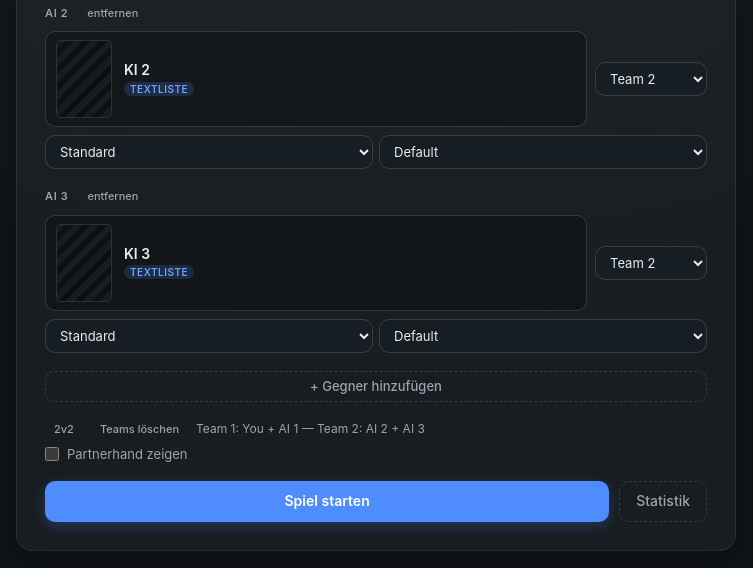
it: Lobby: Teams › ein neuer Sitz kommt ohne Team dazu und macht die vollstaendige Aufstellung wieder unvollstaendig
(page scrolled)
Expected: the button "Spiel starten" is enabled, [45,482,609,522]
Step 1. Click the button "+ Gegner hinzufügen" → {"x": 376, "y": 386}, box [45,370,707,402]
(page scrolled)
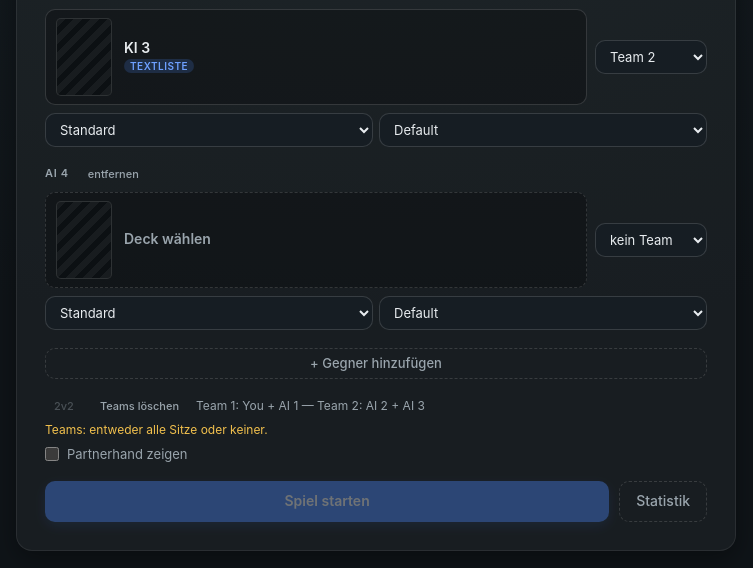
Now the dropdown named "Team von AI 4" shows "kein Team", box [595,223,707,257]
Now the button "Spiel starten" is disabled, box [45,482,609,522]
